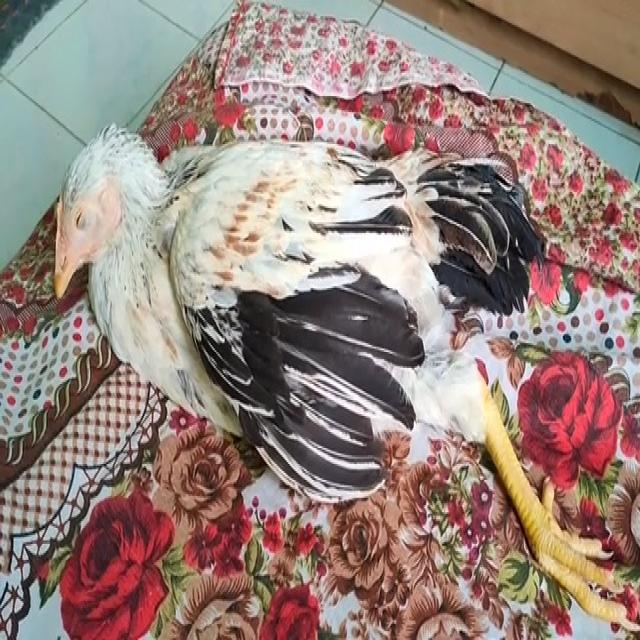leg stretching: (50, 87, 608, 589)
